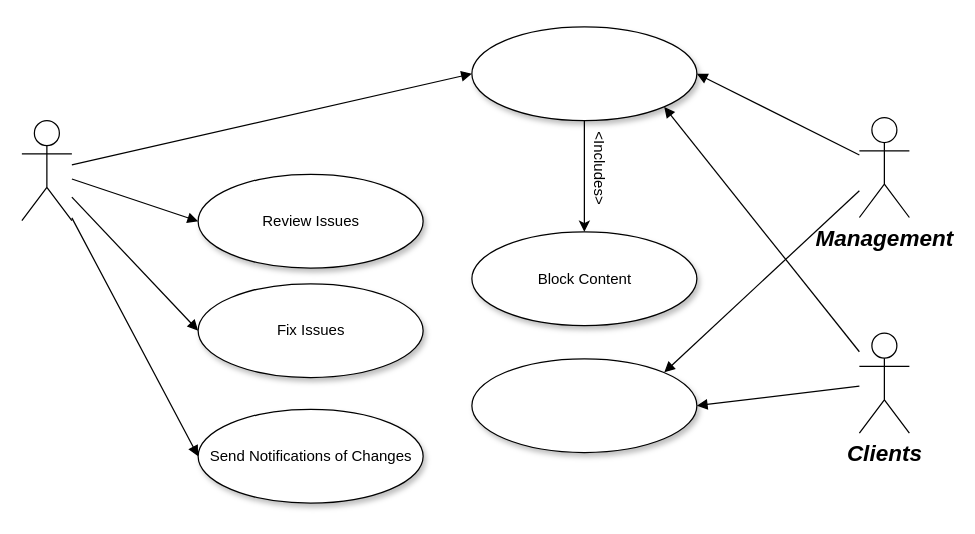
Image size: 975x534. Some labels were removed from this diagram. The centre of each missing label's shape, as x and y in pixels:
"Flag Content" goes at pixel 585 75.
"IT" goes at pixel 46 170.
"See Results/ Give Feedback" goes at pixel 585 406.
